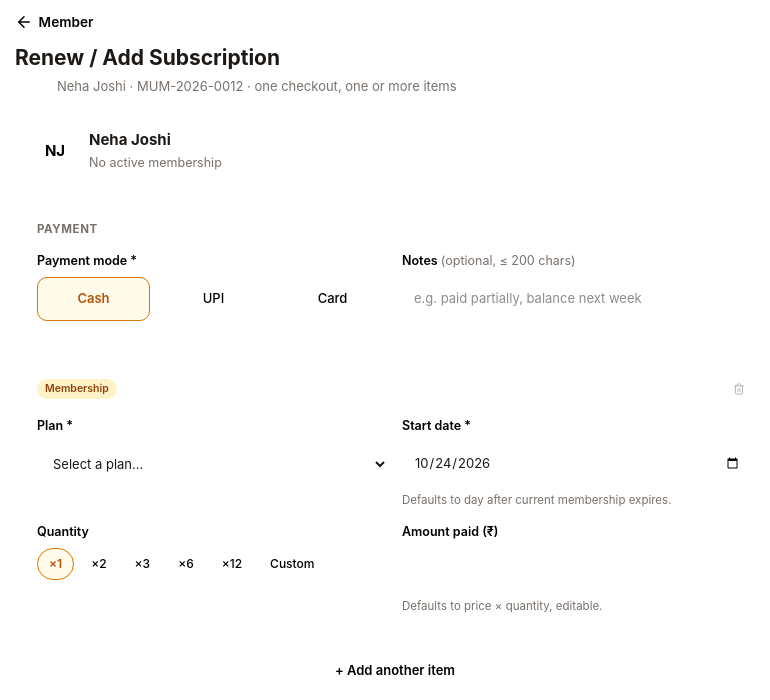
Test case: RenewSubscriptionPage — an item › choosing a plan fills the amount (price × quantity) and previews the end date
Select "Monthly · 30 days · ₹1,500" in the dropdown labelled "Plan *": (212, 464) [37,442,388,486]
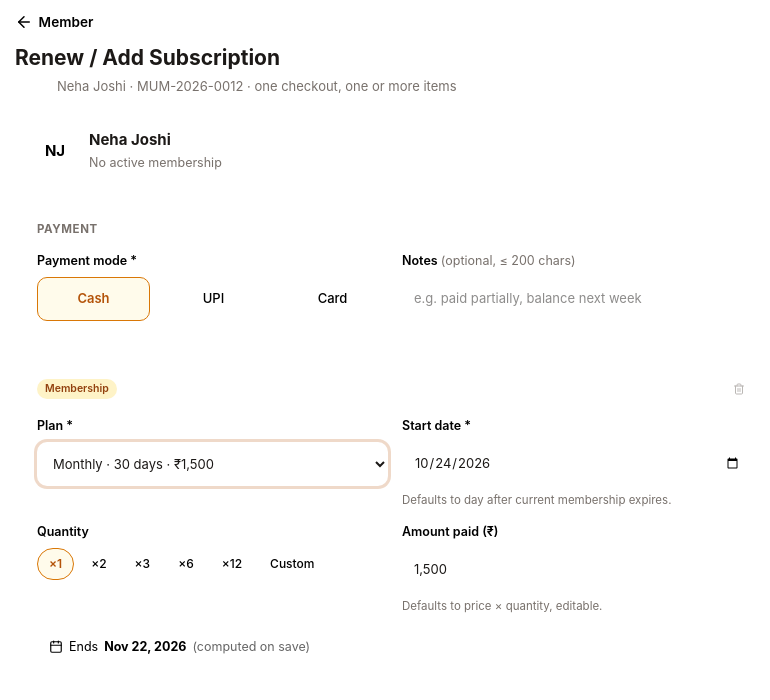
Check: the field labelled "Amount paid (₹)" holds "1,500", box [402,548,753,592]
Check: the text "2026" is shown, box [104,639,186,654]
Check: the text "(computed on save)" is shown, box [192,638,310,657]
